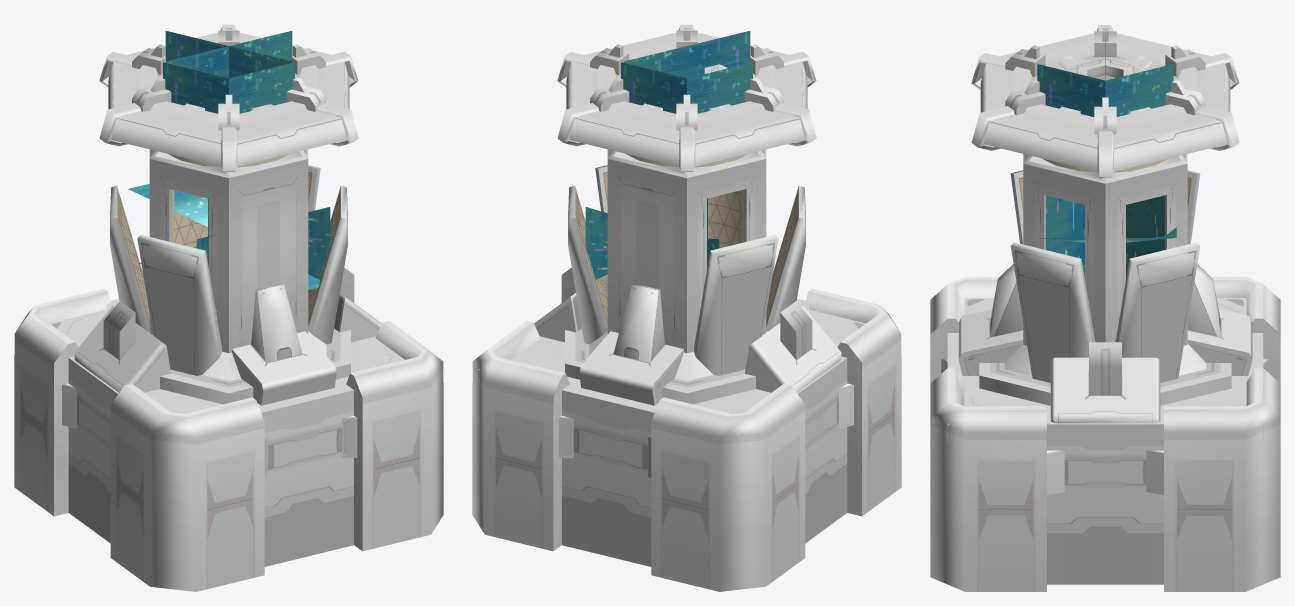
The model's file is smelter-3.glb.
3 views of the same model, side by side, from view 1: azimuth 30°, elevation 25°; view 2: azimuth 150°, elevation 25°; view 3: azimuth 270°, elevation 25° (orthographic). The views are drawn at different scales.
Visible parts, largest first — view 1: smelter-3, smelter-3-a-0, smelter-3-a-3, smelter-3-eff, smelter-3-a-1; view 2: smelter-3, smelter-3-a-1, smelter-3-a-2, smelter-3-a-0, smelter-3-eff; view 3: smelter-3, smelter-3-a-2, smelter-3-a-3, smelter-3-eff, smelter-3-a-0, smelter-3-a-1.
Boxes of the visible parts, x1=… form: smelter-3: x1=20, y1=24, x2=437, y2=566; smelter-3-a-0: x1=110, y1=383, x2=264, y2=591; smelter-3-a-3: x1=346, y1=321, x2=443, y2=551; smelter-3-eff: x1=128, y1=31, x2=330, y2=312; smelter-3-a-1: x1=14, y1=288, x2=110, y2=516; smelter-3: x1=478, y1=24, x2=895, y2=566; smelter-3-a-1: x1=651, y1=383, x2=805, y2=591; smelter-3-a-2: x1=472, y1=321, x2=569, y2=551; smelter-3-a-0: x1=805, y1=288, x2=901, y2=516; smelter-3-eff: x1=585, y1=31, x2=752, y2=279; smelter-3: x1=941, y1=25, x2=1269, y2=584; smelter-3-a-2: x1=1164, y1=368, x2=1280, y2=591; smelter-3-a-3: x1=930, y1=368, x2=1046, y2=591; smelter-3-eff: x1=1037, y1=37, x2=1176, y2=277; smelter-3-a-0: x1=930, y1=276, x2=999, y2=383; smelter-3-a-1: x1=1211, y1=276, x2=1280, y2=383.
Size of the model in its own units: 3 by 4.45 by 3.
2 materials, 2 textured.
